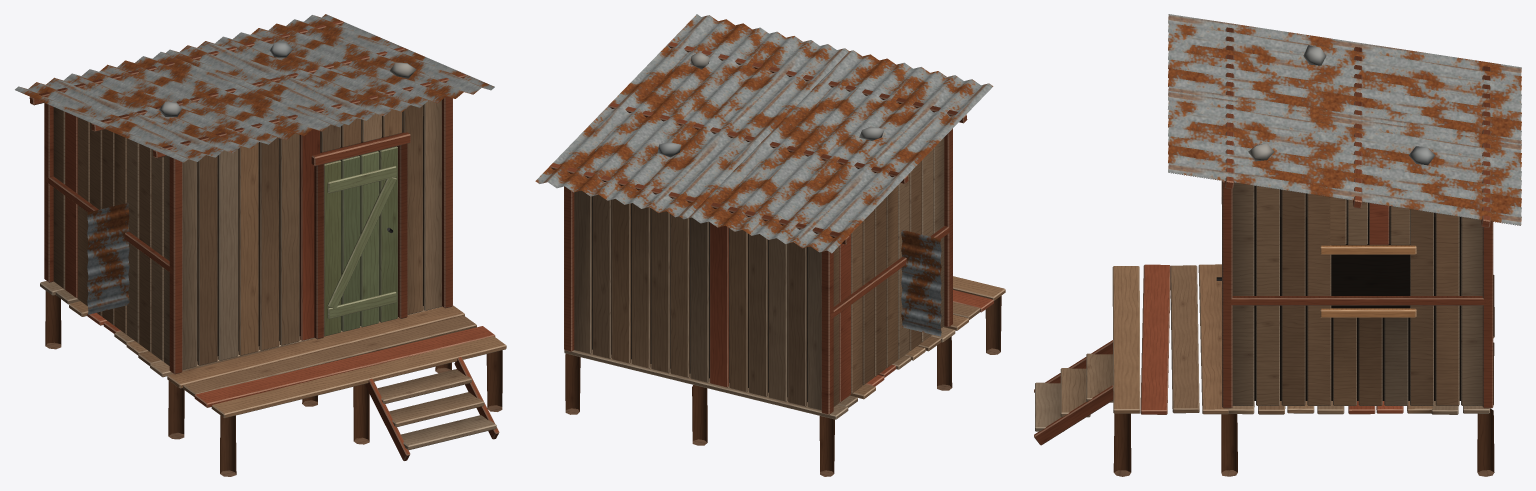
Rendered from shack.glb.
The picture shows the model from 3 angles, left to right: view 1: azimuth 30°, elevation 25°; view 2: azimuth 150°, elevation 25°; view 3: azimuth 270°, elevation 25°; orthographic projection. The views are drawn at different scales.
Visible parts, largest first — view 1: walls, roof; view 2: walls, roof; view 3: walls, roof.
Part boxes in pixels (x1,y1,x2,y2): walls: (40, 96, 506, 476); roof: (15, 14, 494, 162); walls: (564, 128, 1005, 476); roof: (535, 14, 993, 253); walls: (1034, 180, 1494, 476); roof: (1168, 14, 1521, 227).
Bounding box in the file's own units: 3.73 × 3.25 × 4.56.
4 materials, 2 textured.
